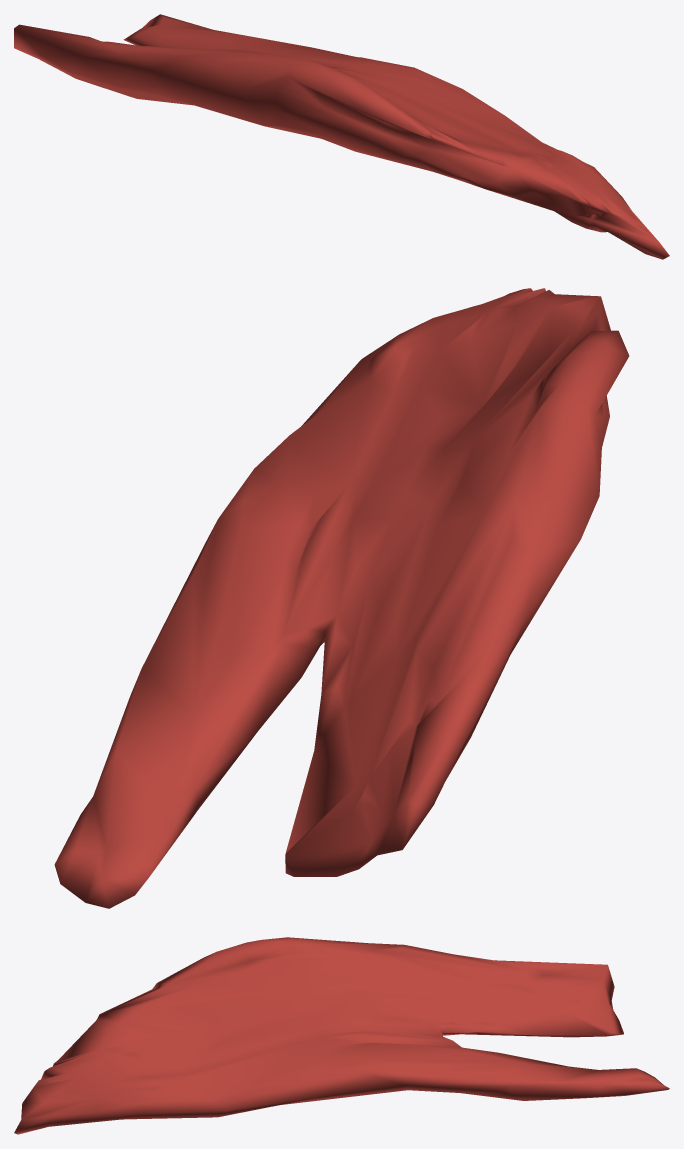
The model's file is musculos-quadratus-plantae-muscle-l.glb.
3 renders of one model, top to bottom at view 1: azimuth 30°, elevation 25°; view 2: azimuth 150°, elevation 25°; view 3: azimuth 270°, elevation 25°, orthographic. The views are drawn at different scales.
Visible parts, largest first — view 1: Quadratus plantae muscle.l; view 2: Quadratus plantae muscle.l; view 3: Quadratus plantae muscle.l.
Boxes of the visible parts, bbox=[...] form: Quadratus plantae muscle.l: bbox=[14, 14, 669, 259]; Quadratus plantae muscle.l: bbox=[54, 288, 629, 908]; Quadratus plantae muscle.l: bbox=[14, 937, 669, 1134].
Size of the model in its own units: 0.0356 by 0.017 by 0.0768.
